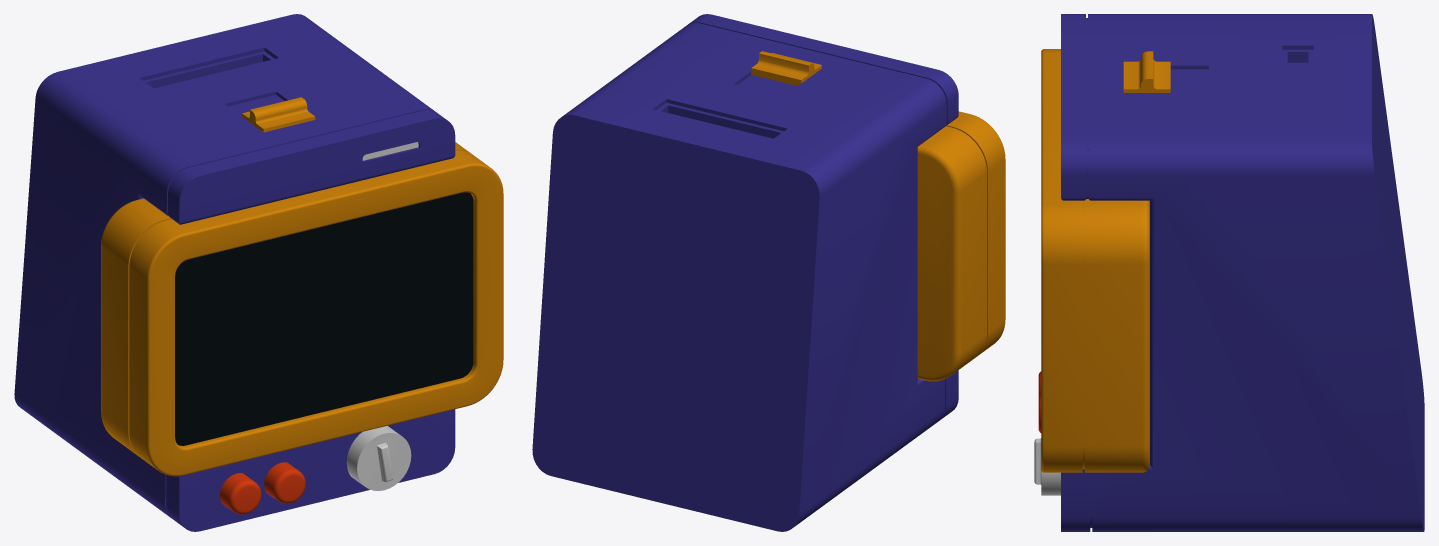
Rendered from console.glb.
The picture shows the model from 3 angles, left to right: view 1: azimuth 30°, elevation 25°; view 2: azimuth 150°, elevation 25°; view 3: azimuth 270°, elevation 25°; orthographic projection. The views are drawn at different scales.
Visible parts, largest first — view 1: Cube, Cube006, Cube001, Cylinder, Cylinder002, Cube002; view 2: Cube, Cube001, Cube002; view 3: Cube, Cube001, Cube002, Cylinder.
Boxes of the visible parts, bbox=[...] form: Cube: bbox=[14, 14, 455, 531]; Cube006: bbox=[175, 192, 473, 445]; Cube001: bbox=[101, 142, 503, 476]; Cylinder: bbox=[346, 425, 411, 490]; Cylinder002: bbox=[219, 462, 305, 514]; Cube002: bbox=[242, 97, 315, 132]; Cube: bbox=[532, 14, 958, 531]; Cube001: bbox=[917, 111, 1005, 381]; Cube002: bbox=[751, 51, 821, 85]; Cube: bbox=[1061, 14, 1424, 531]; Cube001: bbox=[1041, 49, 1149, 472]; Cube002: bbox=[1123, 51, 1170, 92]; Cylinder: bbox=[1034, 438, 1060, 495].
Bounding box in the file's own units: 138 × 136 × 120.
